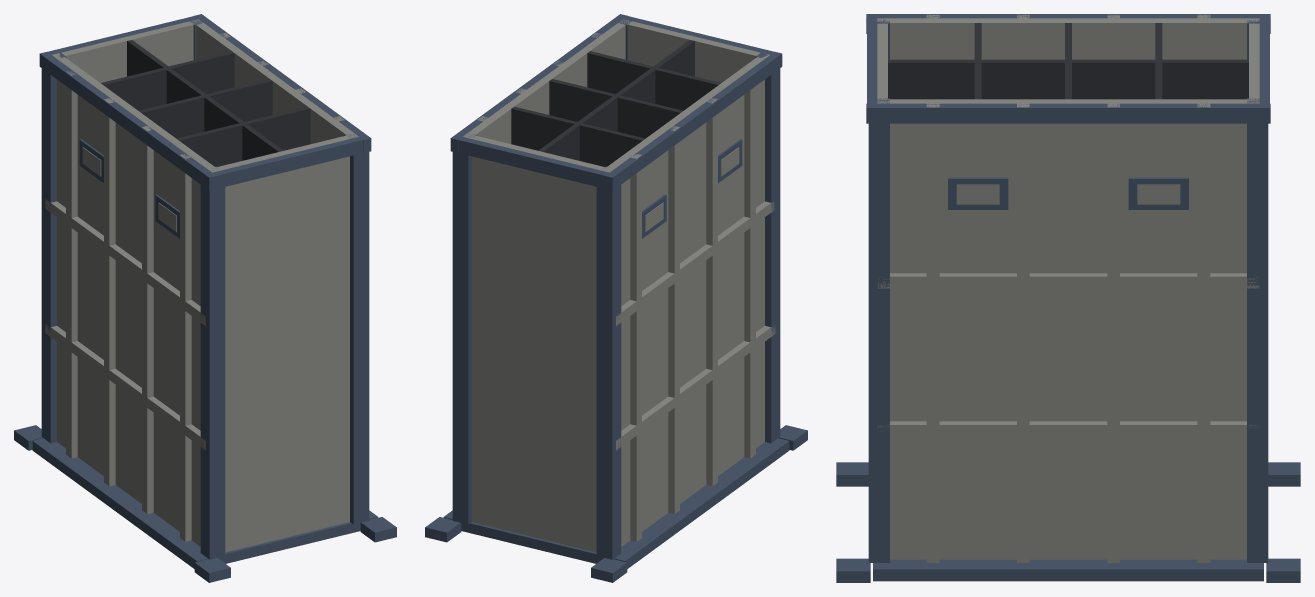
The model's file is mp8_housing.obj.
The picture shows the model from 3 angles, left to right: view 1: azimuth 30°, elevation 25°; view 2: azimuth 150°, elevation 25°; view 3: azimuth 270°, elevation 25°; orthographic projection. The views are drawn at different scales.
Visible parts, largest first — view 1: mp8_housing; view 2: mp8_housing; view 3: mp8_housing.
Boxes of the visible parts, x1,y1,x2,y2 form: mp8_housing: [14, 14, 396, 582]; mp8_housing: [425, 14, 807, 582]; mp8_housing: [836, 14, 1300, 582].
Size of the model in its own units: 0.6 by 1.2 by 1.08.
